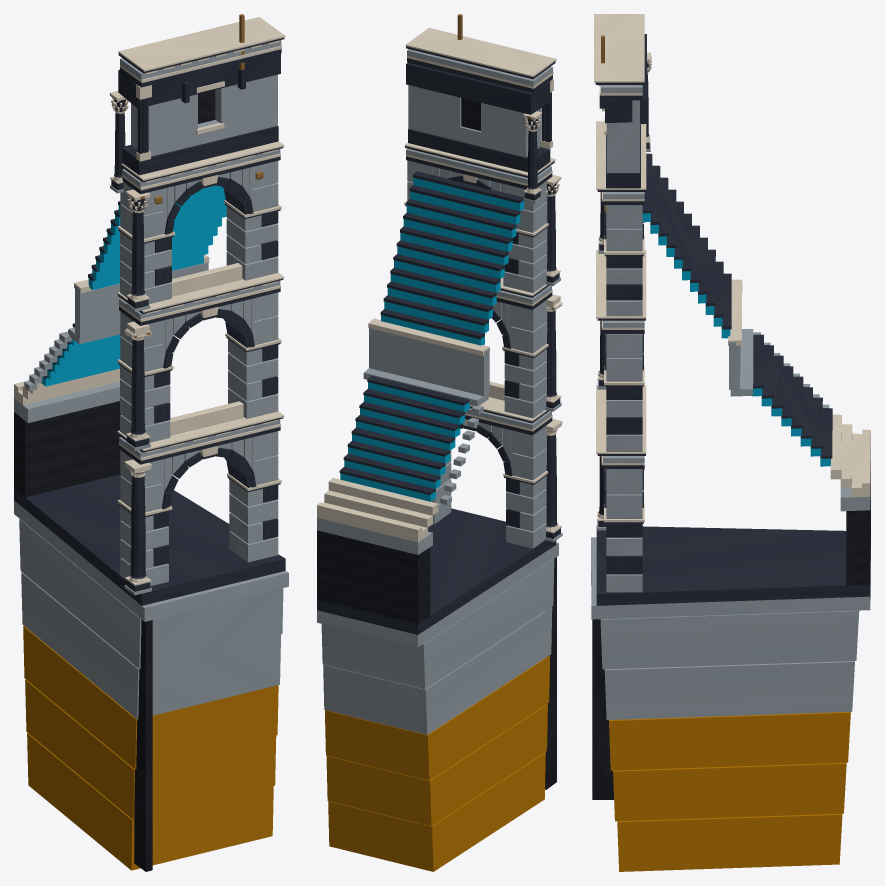
Rendered from UMOD_01_Standard_Window_Bay.glb.
3 renders of one model, left to right at view 1: azimuth 30°, elevation 25°; view 2: azimuth 150°, elevation 25°; view 3: azimuth 270°, elevation 25°, orthographic. The views are drawn at different scales.
Parts seen in each view (by area): view 1: UMOD_01_Standard_Window_Bay; view 2: UMOD_01_Standard_Window_Bay; view 3: UMOD_01_Standard_Window_Bay.
Part boxes in pixels (x1=…): UMOD_01_Standard_Window_Bay: x1=14, y1=14, x2=288, y2=871; UMOD_01_Standard_Window_Bay: x1=317, y1=14, x2=562, y2=871; UMOD_01_Standard_Window_Bay: x1=591, y1=14, x2=870, y2=871.
Bounding box in the file's own units: 18.44 × 96.54 × 29.96.
7 materials, 7 textured.
